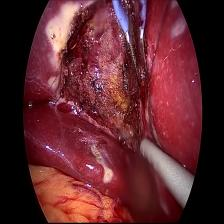Bipolar: (112, 0, 162, 93)
Irrigator: (138, 135, 174, 184)
